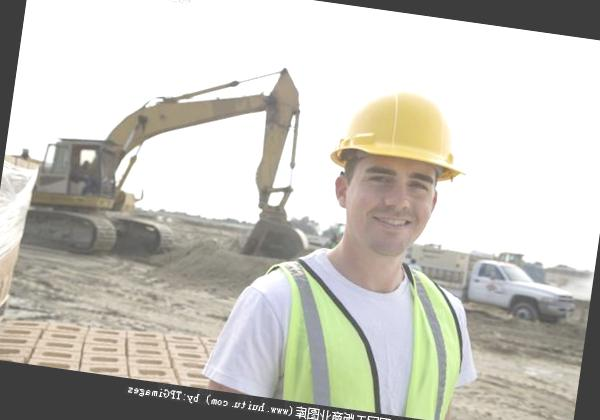helmet: (324, 78, 476, 194)
person: (208, 62, 513, 420)
